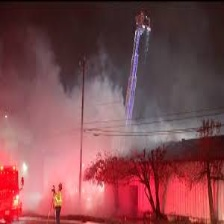smoke: (17, 83, 123, 185)
